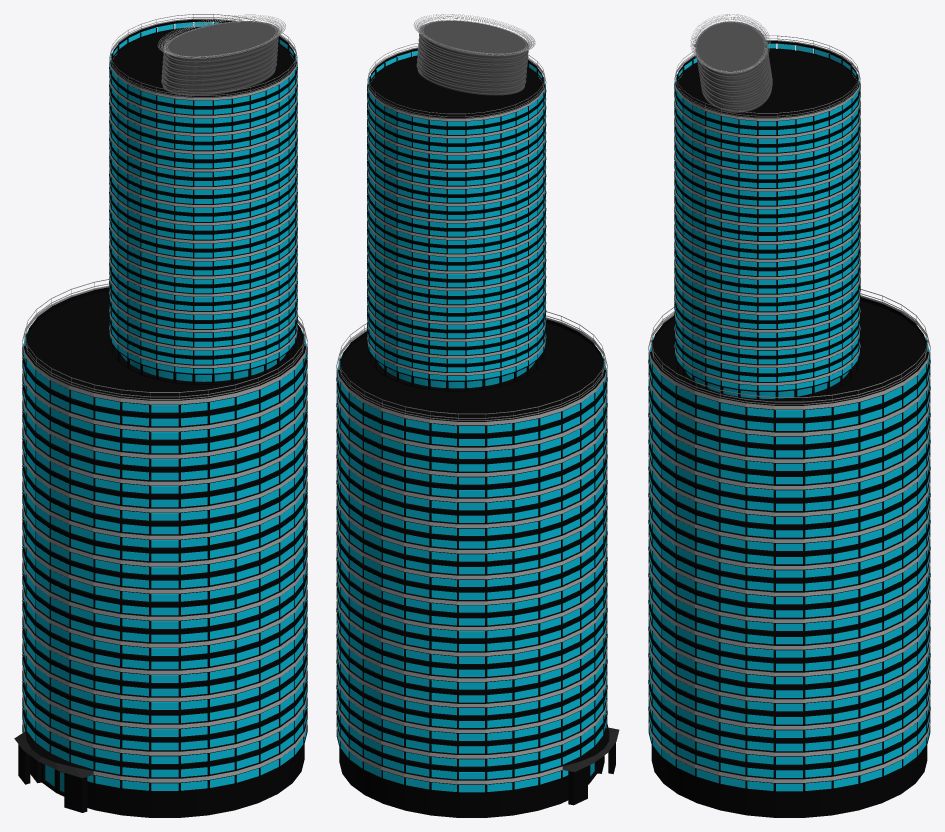
File: skyscraper.fbx
The picture shows the model from 3 angles, left to right: view 1: azimuth 30°, elevation 25°; view 2: azimuth 150°, elevation 25°; view 3: azimuth 270°, elevation 25°; orthographic projection. The views are drawn at different scales.
Parts seen in each view (by area): view 1: locator1, Tube064, Tube063, Tube004, Cylinder009, Tube032, Tube028, Tube030, Tube026, Tube024, Tube006, Tube018 (+60 smaller); view 2: locator1, Tube063, Tube064, Tube004, Cylinder009, Tube032, Tube014, Tube029, Tube025, Tube012, Tube018, Tube023 (+60 smaller); view 3: locator1, Tube063, Tube064, Cylinder009, Tube032, Tube023, Tube020, Tube014, Tube017, Tube026, Tube029, Tube022 (+53 smaller).
Part boxes in pixels (x1=…): locator1: x1=23, y1=14, x2=306, y2=796; Tube064: x1=30, y1=743, x2=304, y2=817; Tube063: x1=109, y1=19, x2=297, y2=105; Tube004: x1=14, y1=719, x2=307, y2=812; Cylinder009: x1=164, y1=21, x2=278, y2=63; Tube032: x1=22, y1=285, x2=307, y2=413; Tube028: x1=22, y1=395, x2=307, y2=467; Tube030: x1=22, y1=368, x2=307, y2=440; Tube026: x1=22, y1=422, x2=307, y2=494; Tube024: x1=22, y1=449, x2=307, y2=521; Tube006: x1=22, y1=692, x2=307, y2=764; Tube018: x1=22, y1=530, x2=307, y2=602; locator1: x1=337, y1=43, x2=606, y2=792; Tube063: x1=367, y1=47, x2=546, y2=126; Tube064: x1=339, y1=747, x2=604, y2=817; Tube004: x1=336, y1=724, x2=619, y2=805; Cylinder009: x1=419, y1=20, x2=528, y2=60; Tube032: x1=336, y1=317, x2=607, y2=433; Tube014: x1=336, y1=595, x2=607, y2=664; Tube029: x1=336, y1=403, x2=607, y2=471; Tube025: x1=336, y1=454, x2=607, y2=523; Tube012: x1=336, y1=621, x2=607, y2=689; Tube018: x1=336, y1=544, x2=607, y2=612; Tube023: x1=336, y1=480, x2=607, y2=548; locator1: x1=649, y1=35, x2=929, y2=791; Tube063: x1=674, y1=40, x2=860, y2=126; Tube064: x1=651, y1=744, x2=927, y2=817; Cylinder009: x1=695, y1=21, x2=767, y2=78; Tube032: x1=648, y1=295, x2=930, y2=417; Tube023: x1=648, y1=467, x2=930, y2=538; Tube020: x1=648, y1=507, x2=930, y2=578; Tube014: x1=648, y1=587, x2=930, y2=658; Tube017: x1=648, y1=547, x2=930, y2=618; Tube026: x1=648, y1=426, x2=930, y2=497; Tube029: x1=648, y1=386, x2=930, y2=457; Tube022: x1=648, y1=480, x2=930, y2=551.
Bounding box in the file's own units: 10.25 × 28.07 × 9.83.
